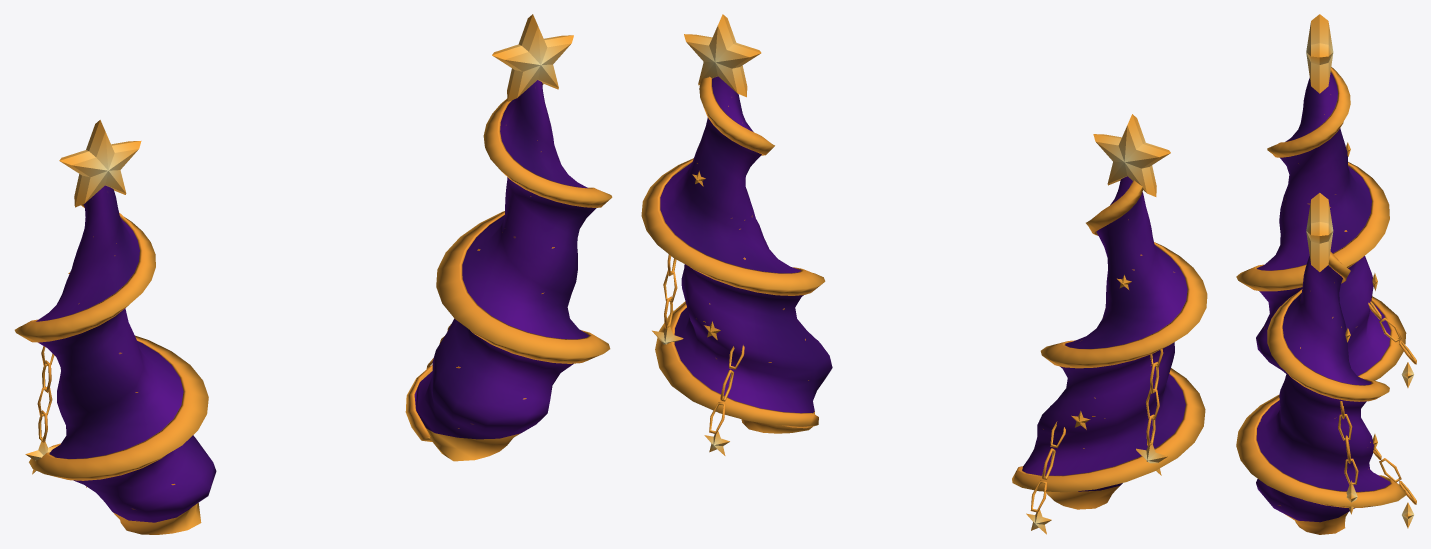
File: Celestial_Horns_Addon.fbx
3 renders of one model, left to right at view 1: azimuth 30°, elevation 25°; view 2: azimuth 150°, elevation 25°; view 3: azimuth 270°, elevation 25°, orthographic. The views are drawn at different scales.
Visible parts, largest first — view 1: Celestial_Horns_Handle; view 2: Celestial_Horns_Handle; view 3: Celestial_Horns_Handle.
Boxes of the visible parts, x1=… form: Celestial_Horns_Handle: x1=14, y1=14, x2=612, y2=534; Celestial_Horns_Handle: x1=641, y1=14, x2=1207, y2=534; Celestial_Horns_Handle: x1=1236, y1=14, x2=1416, y2=534.
Bounding box in the file's own units: 2.42 × 1.66 × 0.7695.
1 material, 1 textured.
